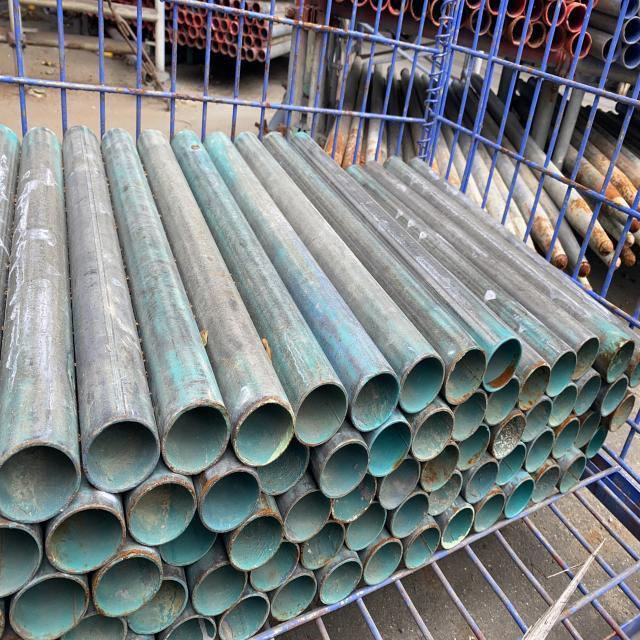pipe: (0, 434, 89, 529), (52, 496, 132, 579), (88, 420, 164, 496), (162, 402, 234, 474), (4, 570, 78, 640), (96, 552, 169, 618), (132, 477, 203, 544), (237, 398, 298, 473), (294, 380, 356, 453), (204, 464, 265, 538), (0, 514, 46, 603), (350, 368, 406, 436), (126, 576, 190, 634), (258, 434, 314, 498), (400, 353, 450, 421), (226, 518, 284, 573), (193, 563, 249, 617), (161, 514, 218, 565), (373, 456, 420, 516), (320, 441, 369, 498), (248, 539, 299, 593), (270, 573, 316, 628), (362, 535, 405, 593), (447, 346, 487, 408), (318, 556, 362, 612), (220, 595, 272, 640), (370, 424, 413, 477), (288, 494, 335, 542), (488, 335, 527, 391), (419, 444, 462, 494), (412, 411, 454, 462), (332, 479, 382, 521), (68, 608, 132, 640), (487, 374, 522, 430), (490, 412, 530, 460), (298, 529, 342, 572), (344, 506, 386, 551), (547, 386, 583, 436), (405, 524, 441, 574), (444, 505, 479, 555), (545, 350, 579, 400), (498, 442, 533, 490), (428, 472, 464, 518), (454, 394, 488, 442), (522, 398, 554, 448), (392, 498, 430, 540), (560, 416, 590, 468), (477, 492, 509, 540), (606, 338, 636, 386), (460, 426, 494, 468), (528, 432, 558, 479), (573, 376, 605, 420), (466, 463, 497, 507), (521, 368, 550, 414), (533, 468, 566, 508), (572, 334, 598, 384), (167, 616, 218, 640), (604, 376, 630, 418), (506, 482, 534, 520), (564, 458, 592, 496), (578, 409, 604, 446), (610, 397, 636, 432), (588, 428, 607, 463)
